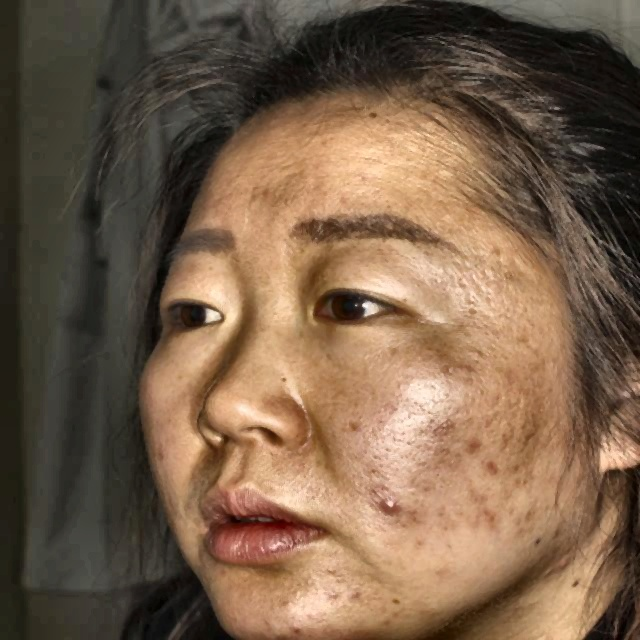pustule: (481, 499, 514, 543), (516, 496, 550, 535), (385, 489, 409, 532), (472, 455, 504, 479), (540, 555, 572, 579), (453, 432, 479, 455)
